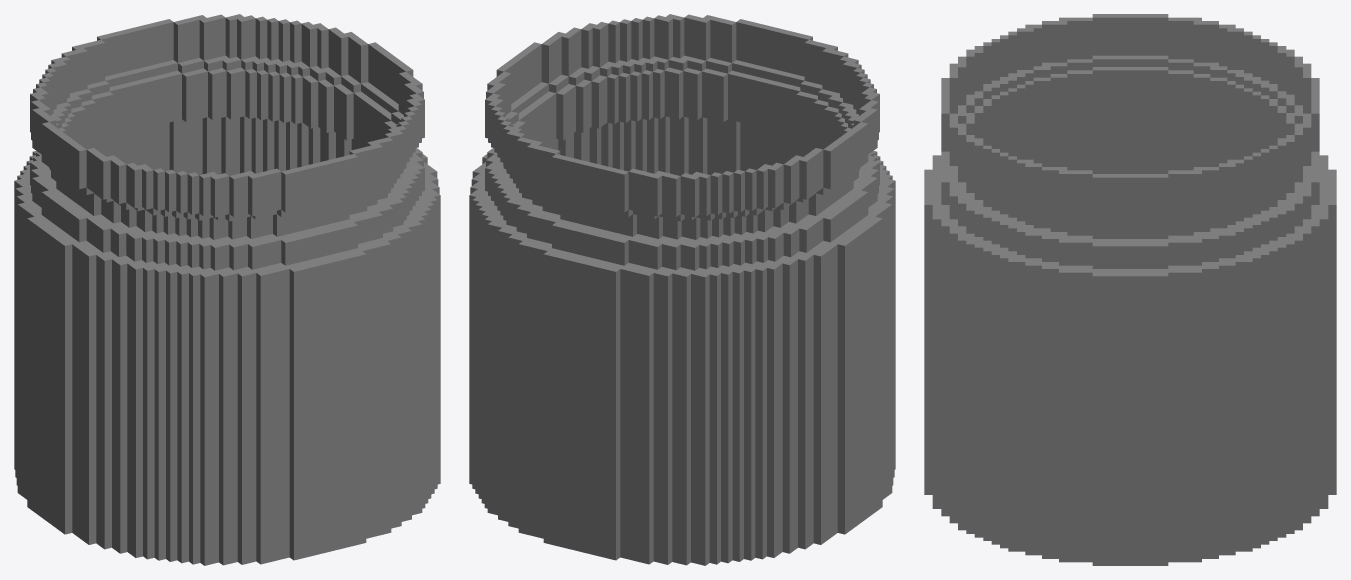
Rendered from bocale-3.obj.
The picture shows the model from 3 angles, left to right: view 1: azimuth 30°, elevation 25°; view 2: azimuth 150°, elevation 25°; view 3: azimuth 270°, elevation 25°; orthographic projection.
Size of the model in its own units: 5 by 5 by 4.9.
1 material, 1 textured.
